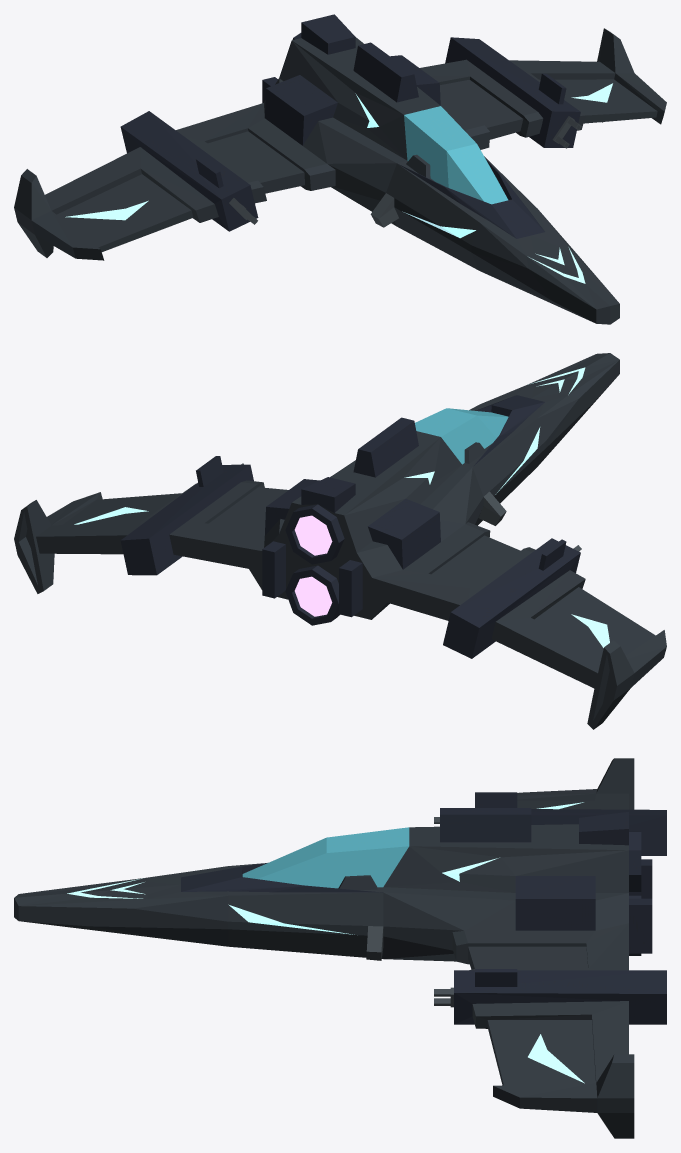
The model's file is ship-transformed.glb.
3 views of the same model, one above another, from view 1: azimuth 30°, elevation 25°; view 2: azimuth 150°, elevation 25°; view 3: azimuth 270°, elevation 25° (orthographic). The views are drawn at different scales.
Visible parts, largest first — view 1: Renault (S, T1)_0, Renault (S, T1)_5; view 2: Renault (S, T1)_0, Renault (S, T1)_4, Renault (S, T1)_5; view 3: Renault (S, T1)_0, Renault (S, T1)_5.
Part boxes in pixels (box(x1,y1,x2,y2)): Renault (S, T1)_0: box(14, 14, 666, 324); Renault (S, T1)_5: box(65, 83, 612, 283); Renault (S, T1)_0: box(14, 353, 666, 729); Renault (S, T1)_4: box(294, 515, 332, 616); Renault (S, T1)_5: box(74, 367, 609, 647); Renault (S, T1)_0: box(14, 758, 666, 1138); Renault (S, T1)_5: box(67, 802, 584, 1083).
Size of the model in its own units: 10.03 by 2.79 by 8.94.
3 materials, 3 textured.
